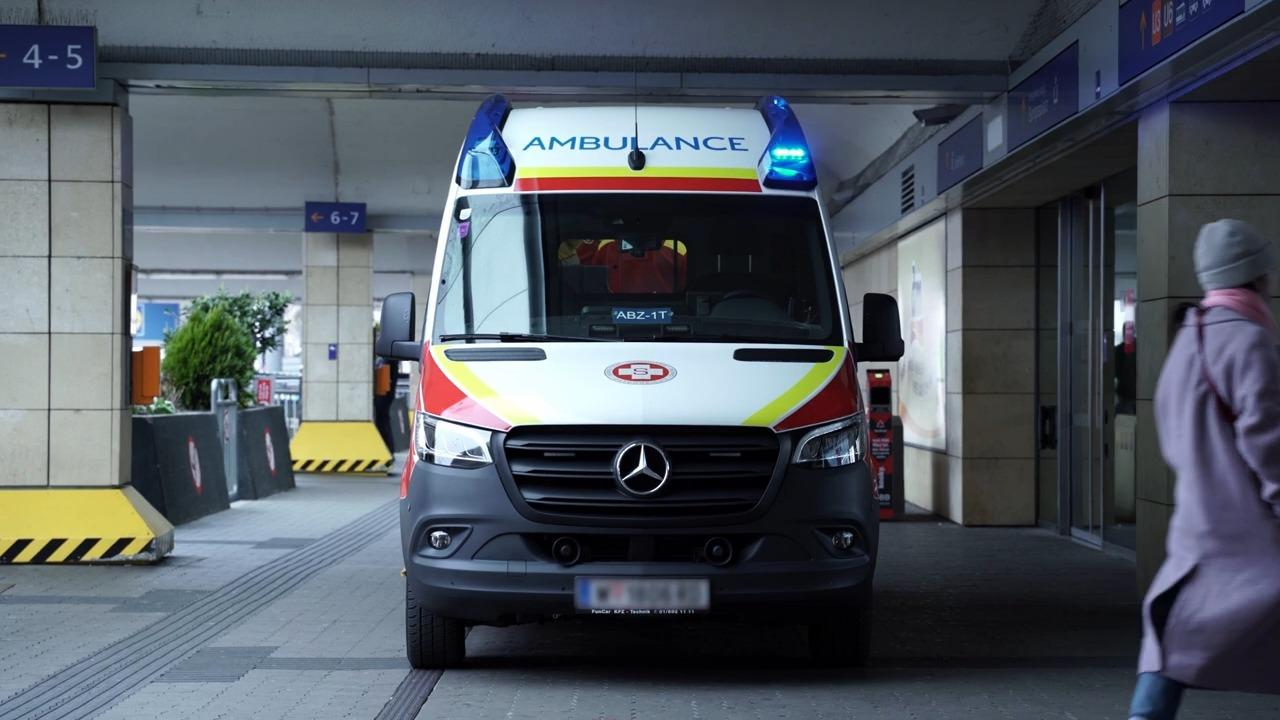car: (381, 90, 900, 672)
